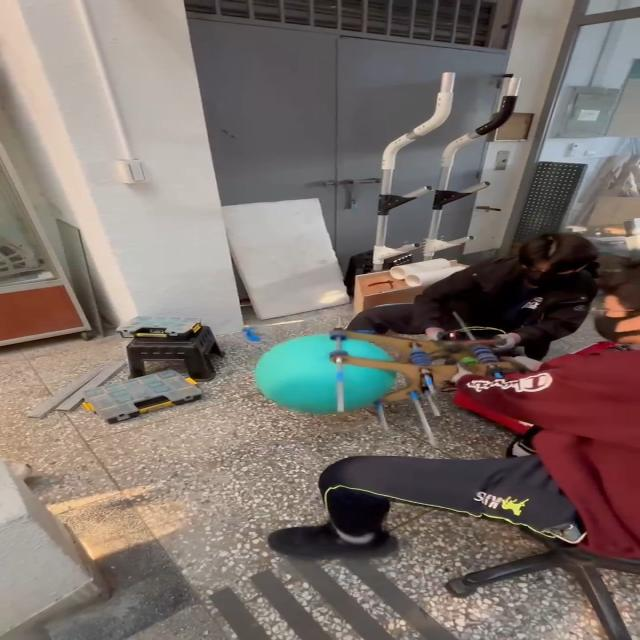ALGAE: (252, 333, 398, 415)
